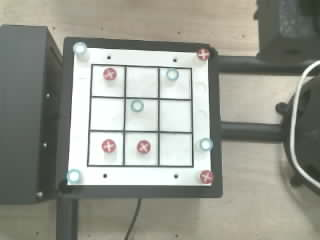blue circle: (67, 169, 80, 183), (73, 42, 86, 55), (200, 138, 213, 150), (167, 68, 178, 80), (131, 100, 143, 111)
board: (66, 45, 211, 186)
cells: (89, 132, 122, 165), (125, 133, 157, 165), (91, 98, 123, 129), (125, 99, 157, 130), (160, 134, 191, 165), (160, 100, 191, 131), (92, 66, 124, 96), (126, 67, 157, 97), (160, 68, 190, 98)
grid: (87, 64, 193, 167)
red cross: (102, 139, 116, 153), (137, 140, 150, 153), (200, 170, 213, 183), (103, 68, 117, 80), (197, 48, 209, 60)
